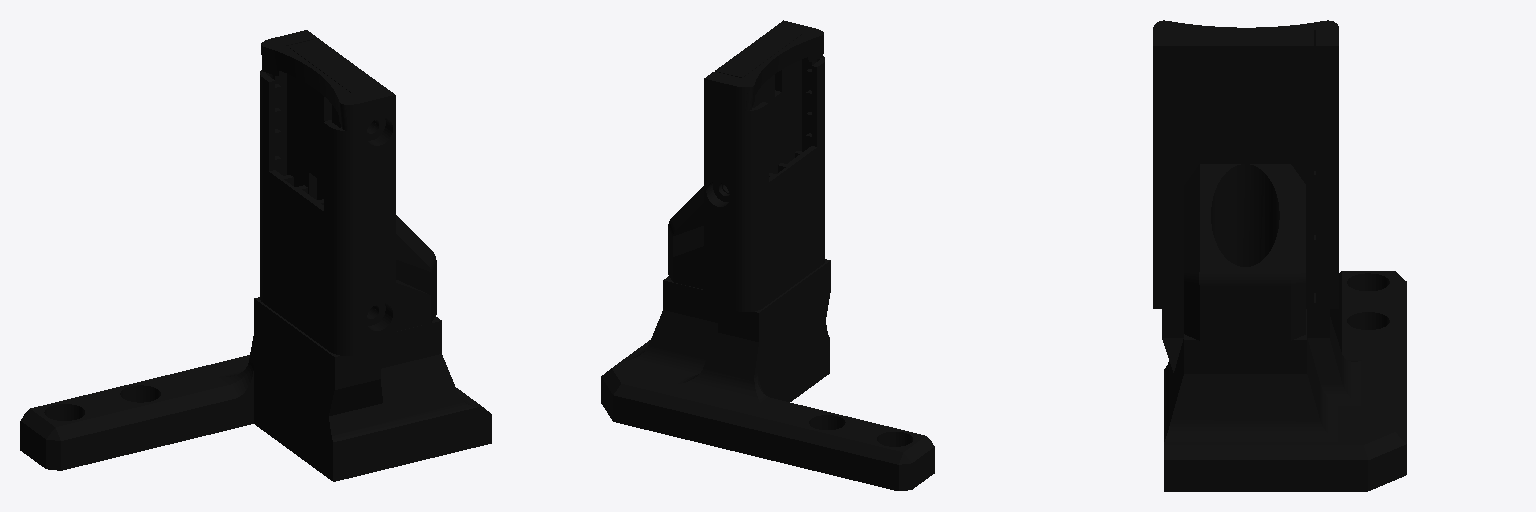
URDF robot description (fingertip):
<robot name="fingertip">
    <link name="base_link"/>
    <link name="magneto_finger">
        <inertial>
            <origin rpy="0 0 0" xyz="0 0 0"/>
            <mass value="0.02"/>
        </inertial>
        <visual>
            <origin rpy="0 0 0" xyz="0 0 0"/>
            <geometry>
                <mesh filename="../meshes/magneto_finger.obj"/>
            </geometry>
            <material name="">
                <color rgba="0.1 0.1 0.1 1"/>
            </material>
        </visual>
        <collision>
            <origin rpy="0 0 0" xyz="0 0 0.0418"/>
            <geometry>
                <box size="0.057 0.033 0.025"/>
            </geometry>
        </collision>
    </link>


    <joint name="base_to_adapter" type="fixed">
        <parent link="base_link"/>
        <child link="magneto_finger"/>
        <origin xyz="0 0 0" rpy="0 0 0"/>
    </joint>

</robot>

--- Render facts (derived) ---
The picture shows the robot from 3 angles, left to right: view 1: azimuth 30°, elevation 25°; view 2: azimuth 150°, elevation 25°; view 3: azimuth 270°, elevation 25°; orthographic projection.
Robot: fingertip — 2 links, 1 joints (1 fixed); root link base_link; default pose: every joint at zero.
Visible links, largest first — view 1: magneto_finger; view 2: magneto_finger; view 3: magneto_finger.
Boxes of the visible links, bbox=[...] form: magneto_finger: bbox=[20, 30, 491, 481]; magneto_finger: bbox=[601, 20, 934, 490]; magneto_finger: bbox=[1153, 20, 1406, 491].
Bounding box of the posed robot: 0.057 × 0.0332 × 0.057 m (x, y, z).
Meshes: 1 distinct files referenced, 1 mesh visuals loaded (1 OBJ).